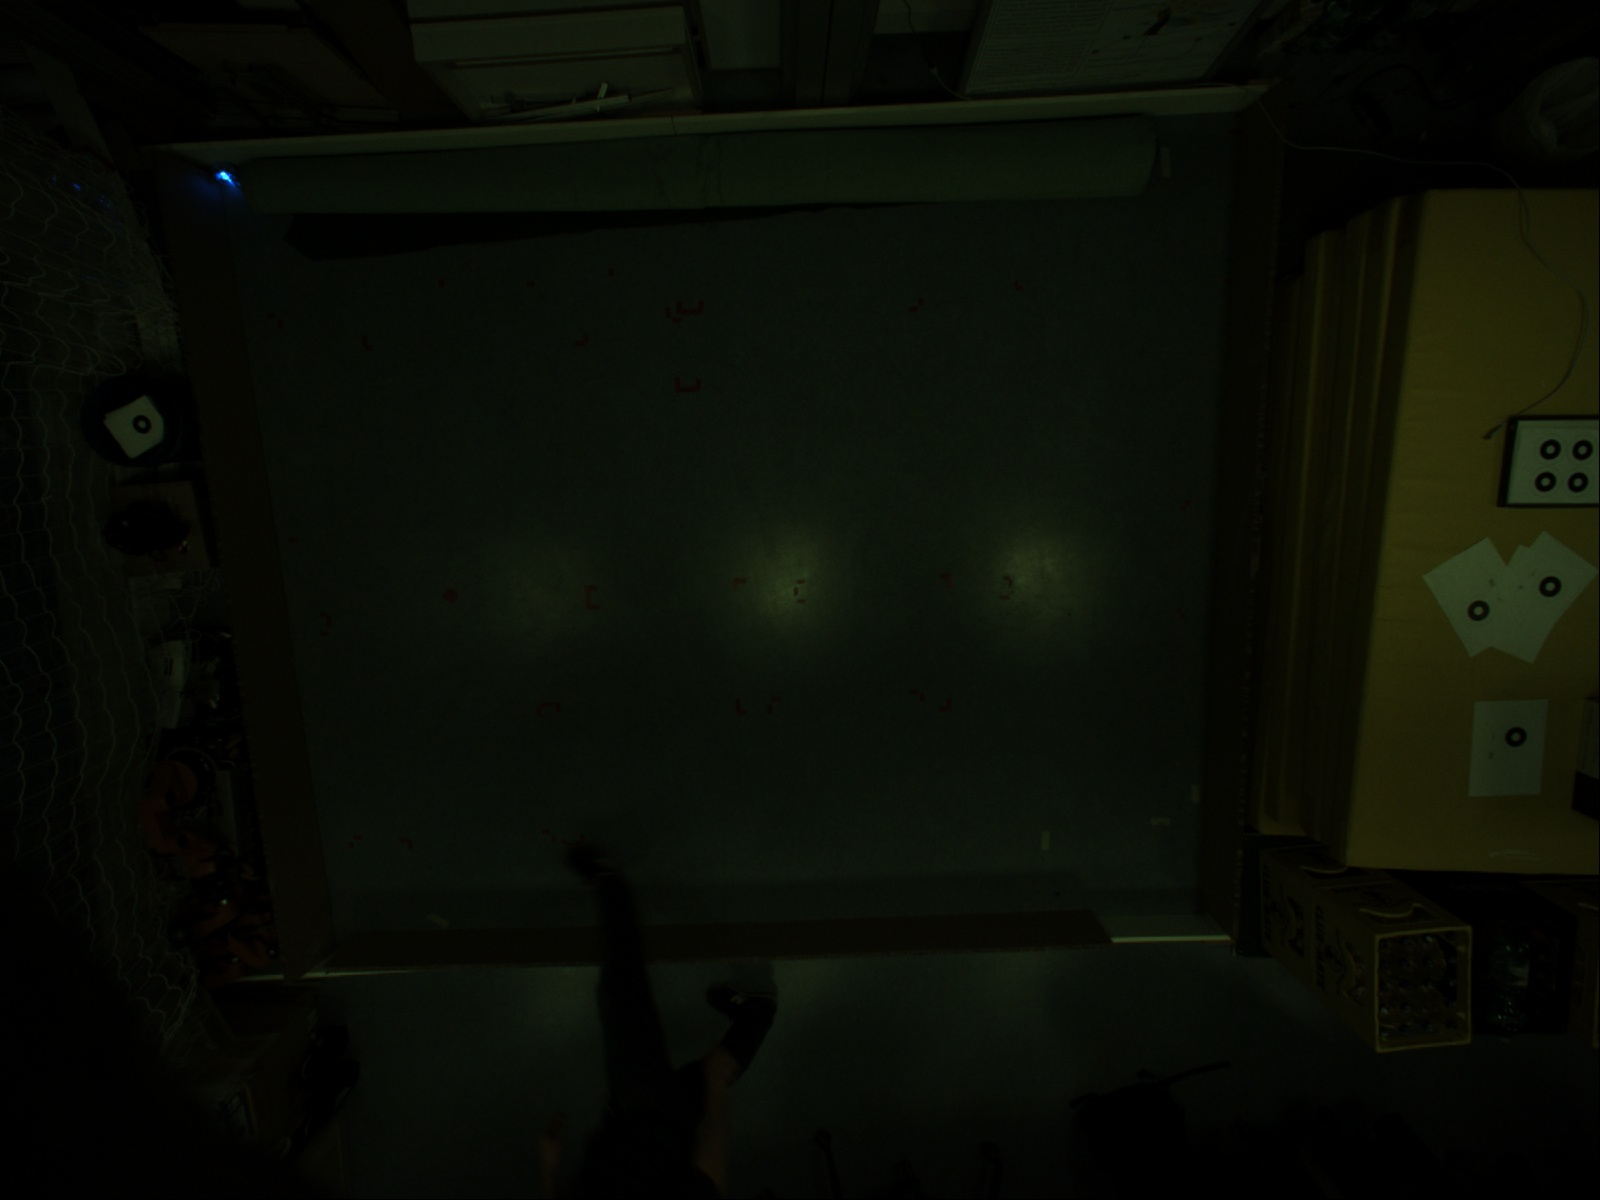sphero: (210, 165, 241, 195)
